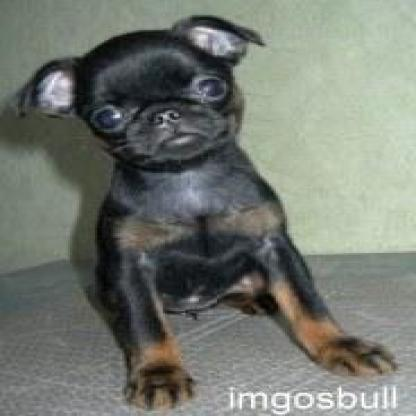Brabancon_griffon: (9, 13, 391, 408)
